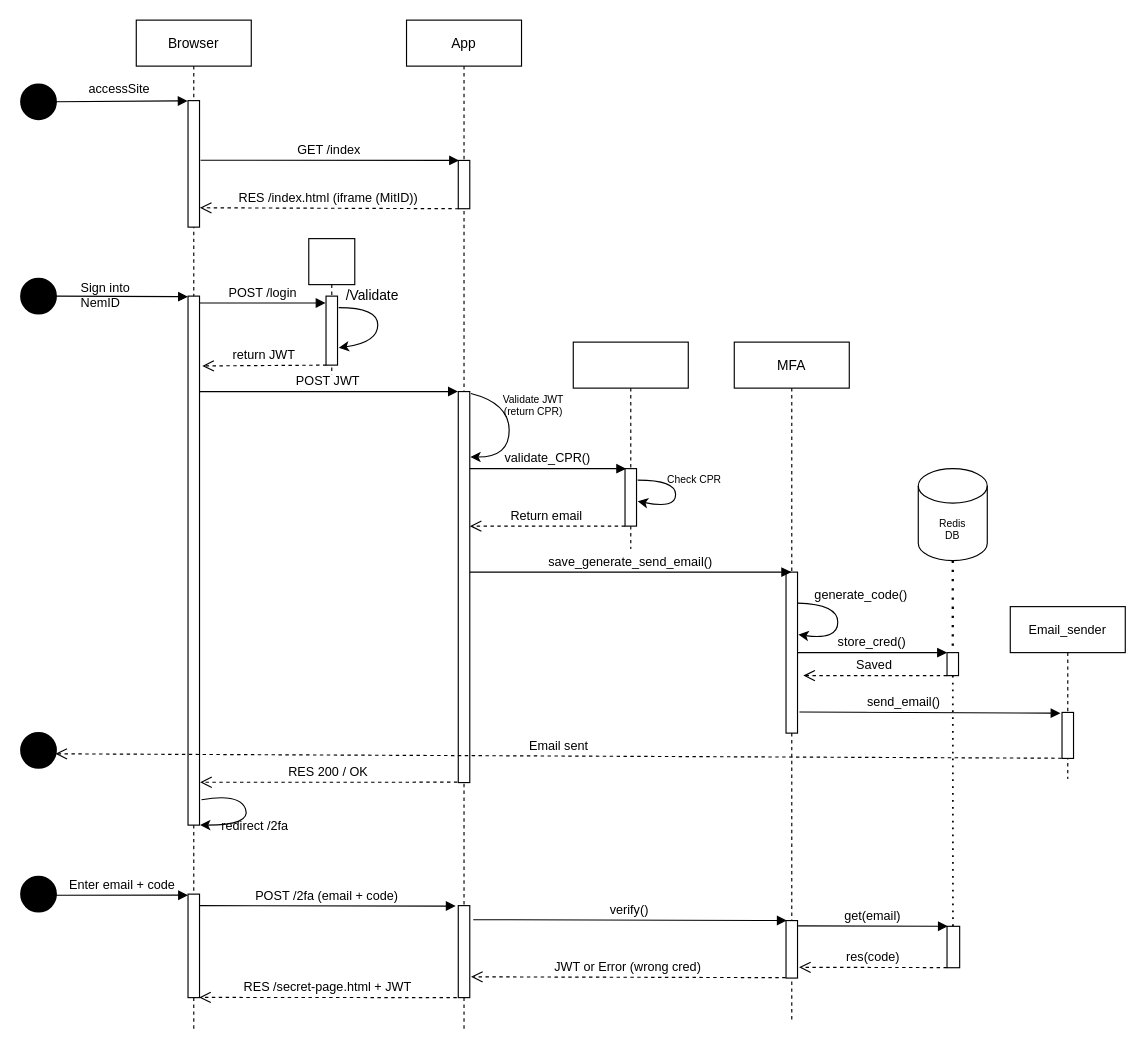
The diagram is 1145 pixels wide and 1052 high, and some of its shapes have lost their labels. The box of each missing label's shape, as (x1, y1, x2, y2) in pixels:
MitID: (308, 237, 355, 377)
Stub Registry: (572, 341, 688, 549)
